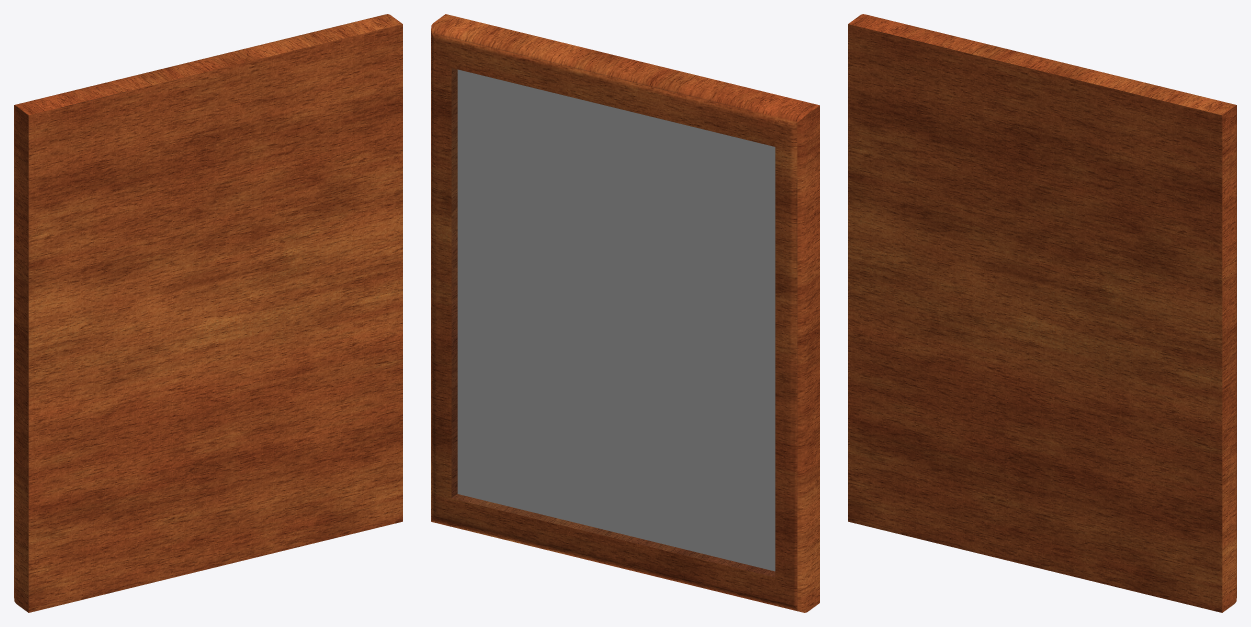
The picture shows the model from 3 angles, left to right: view 1: azimuth 30°, elevation 25°; view 2: azimuth 150°, elevation 25°; view 3: azimuth 330°, elevation 25°; orthographic projection.
Visible parts, largest first — view 1: frame.002; view 2: photo, frame.002; view 3: frame.002.
Boxes of the visible parts, box(x1,y1,x2,y2) form: frame.002: box(14, 14, 402, 612); photo: box(457, 69, 775, 571); frame.002: box(431, 14, 819, 612); frame.002: box(848, 14, 1236, 612).
Bounding box in the file's own units: 157 × 200 × 14.14.
